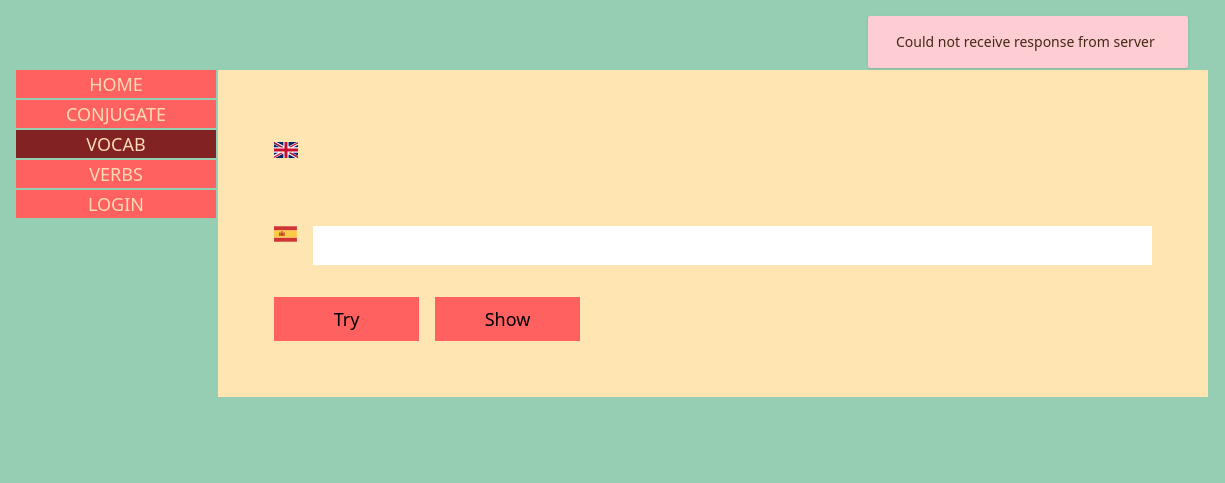
Test: taivuttaja-app › when unlogged › Home page opens
Click the link "HOME": (116, 84) [16, 70, 216, 98]
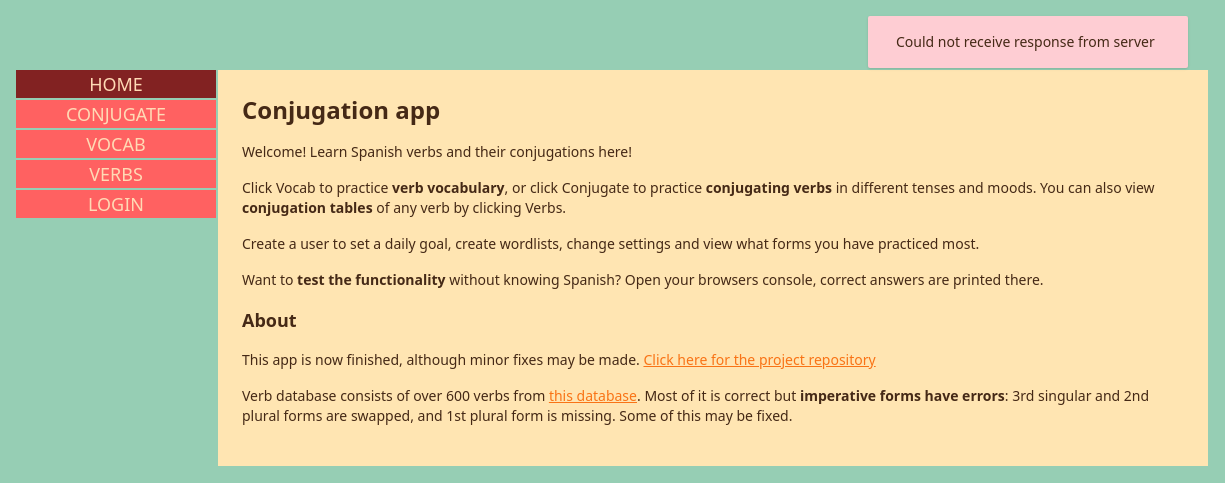
Expected: the text "Welcome" is shown, [242, 142, 632, 161]
